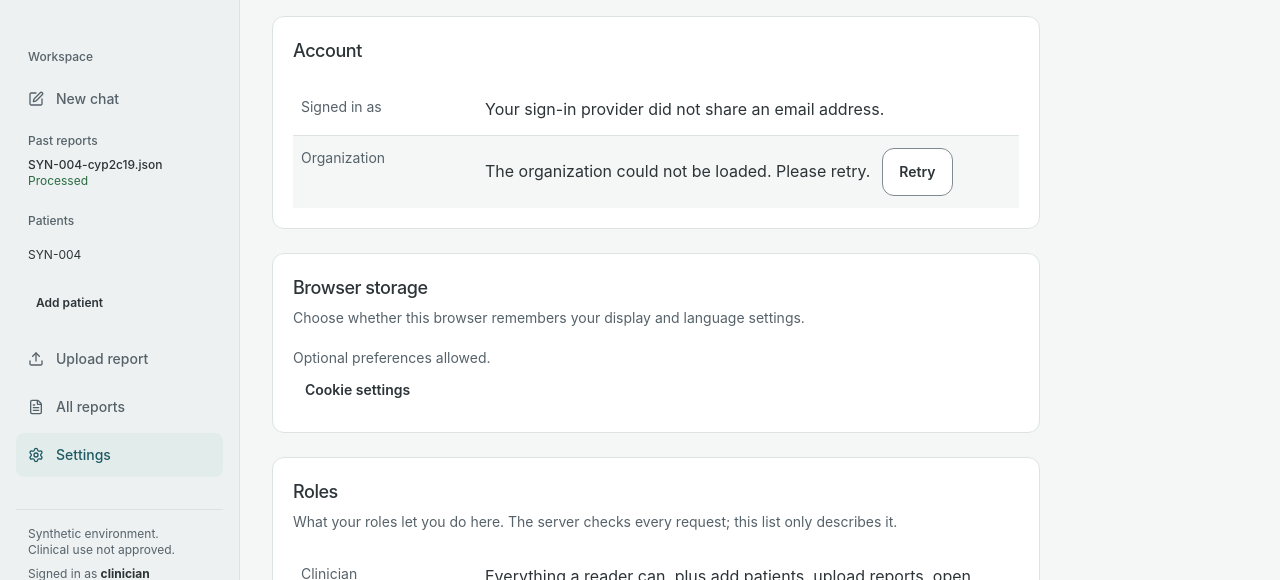
Test: the feature panel (specs/024 D2, D6, CH-2) › Add patient (CH-9, D2a) › refuses an invalid label before any request
The image size is (1280, 580).
Click the button "Add patient": point(120, 303) [28,281,211,325]
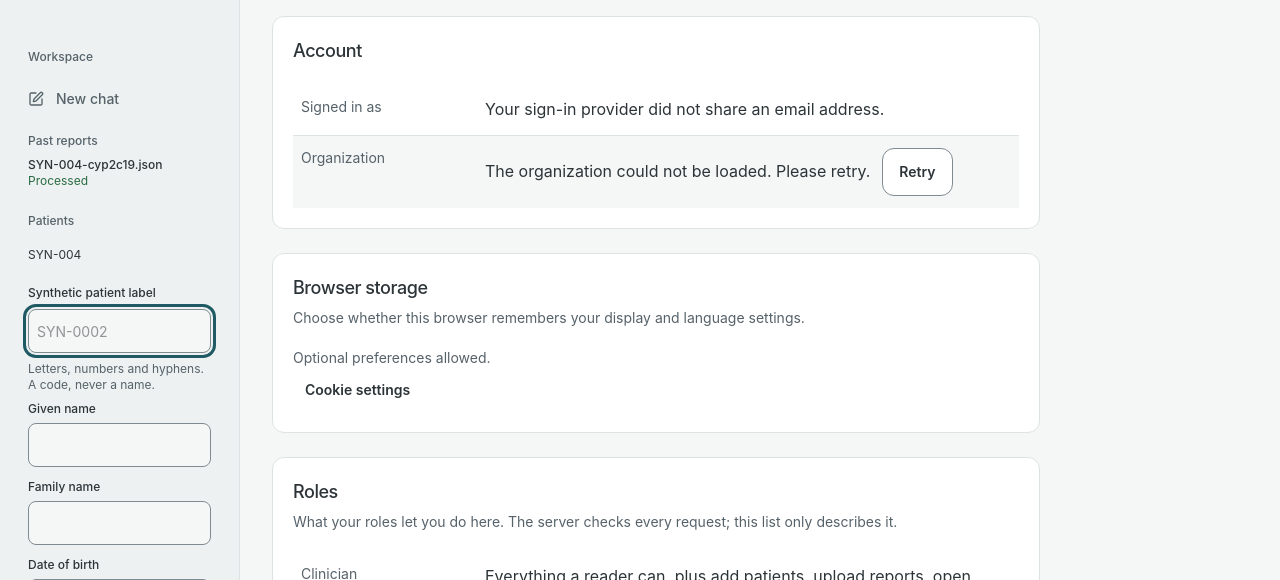
In the field labelled "Synthetic patient label": point(120, 331) [28,309,211,353], type "Jane Doe"
(page scrolled)
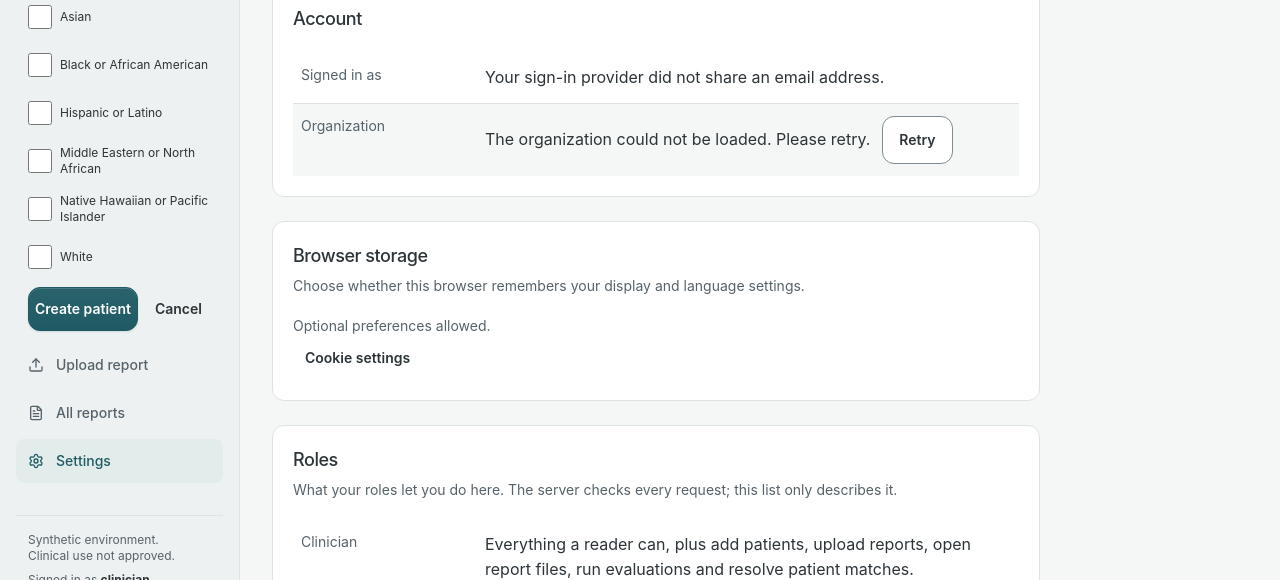
Click the button "Create patient": point(83, 309) [28,287,138,331]
(page scrolled)
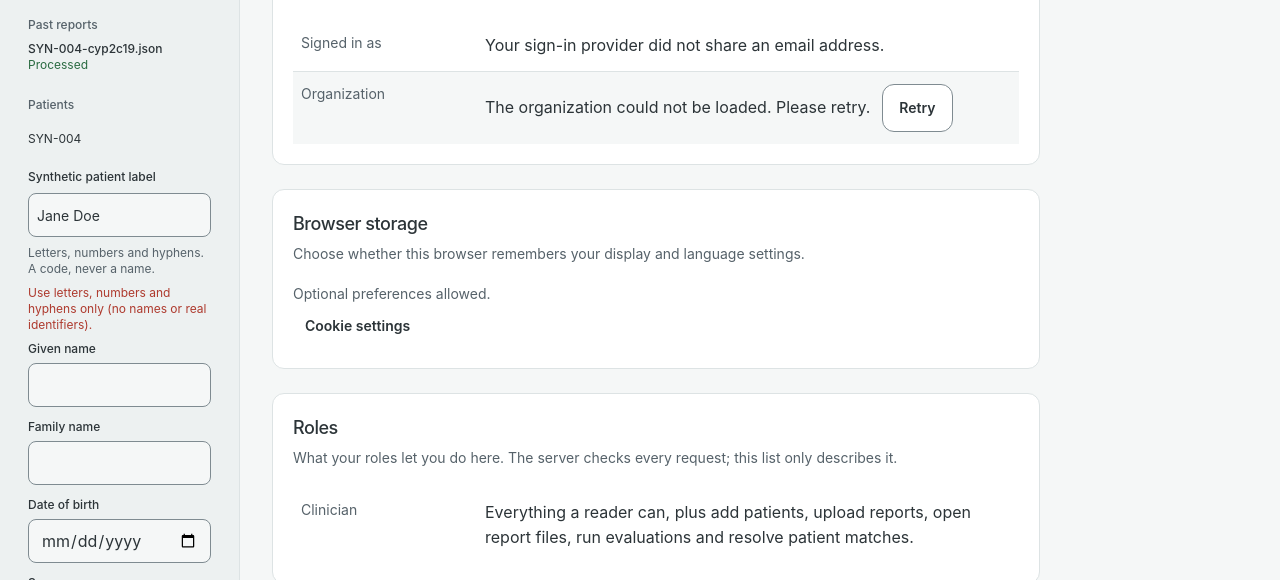
Expected: the message "Use letters, numbers and hyphens only (no names or real identifiers)." is shown, [28,285,211,333]
